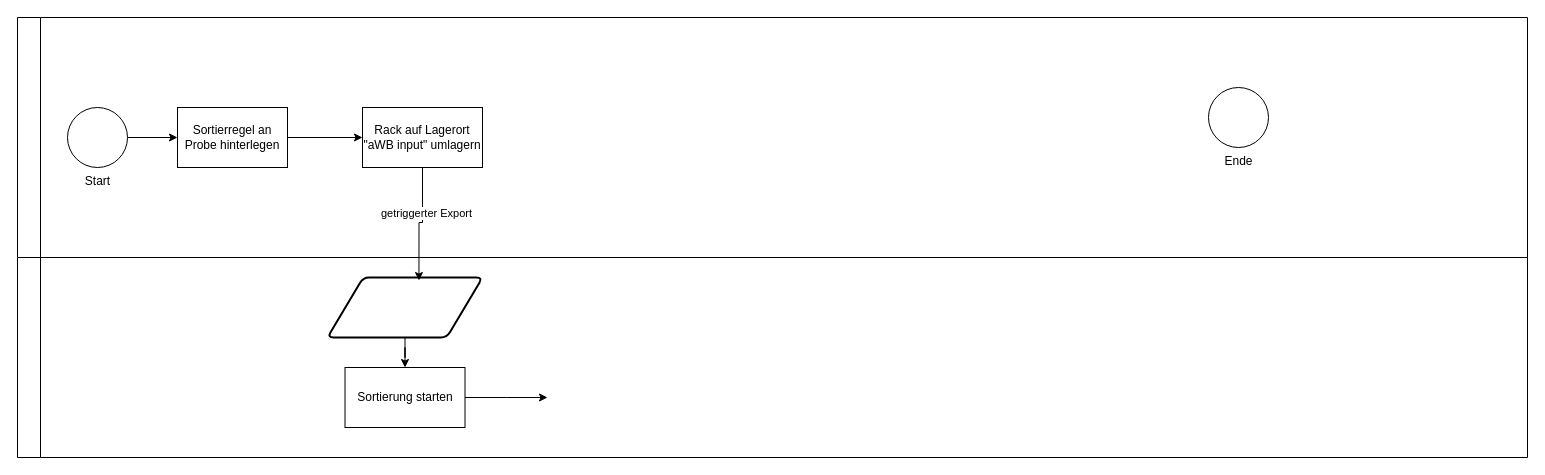
The diagram is 1545 pixels wide and 475 high, and some of its shapes have lost their labels. Here are the shapes that lost their labels. From the top down, the box of each, then its label:
(16, 16, 1528, 258): CentraXX
(326, 276, 483, 338): Informationen für Umsetzung Sortierung
(16, 256, 1528, 458): ASKION aWB
